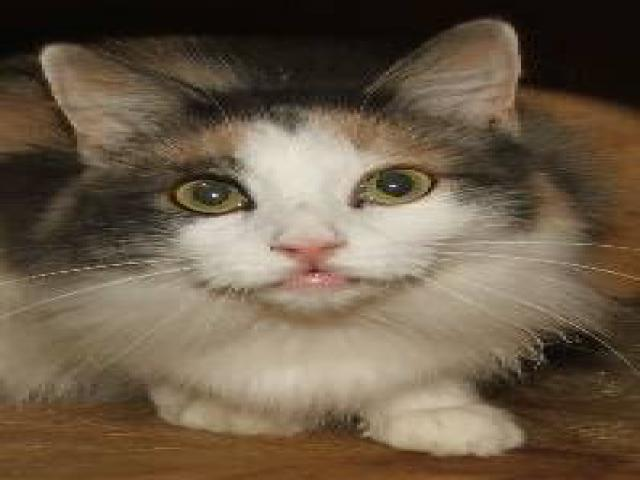cat: (2, 14, 633, 469)
